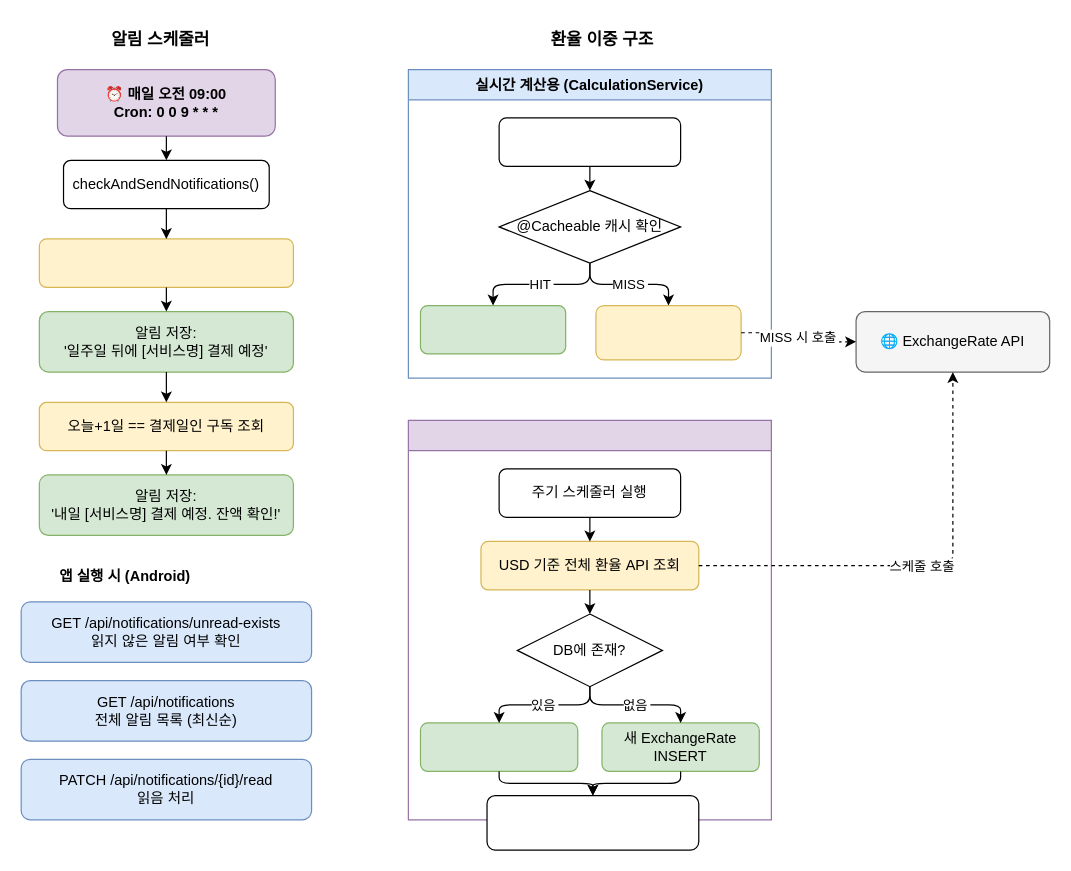
Some shapes in this 1071 by 871 pixel diagram are drawn without their labels. Here are the shapes that lost their labels. From the top down, the box of each, then its label:
(498, 117, 681, 166): 대시보드 요청
(38, 238, 293, 287): 오늘+7일 == 결제일인 구독 조회
(419, 304, 566, 354): 캐시에서 즉시 반환
(595, 304, 741, 360): API 호출 → 캐시 저장
(407, 419, 771, 820): DB 저장용 (ExchangeRateScheduler)
(419, 722, 578, 771): rate + updatedAt UPDATE
(486, 794, 699, 850): GET /api/exchange-rates 저장된 환율 목록 제공
